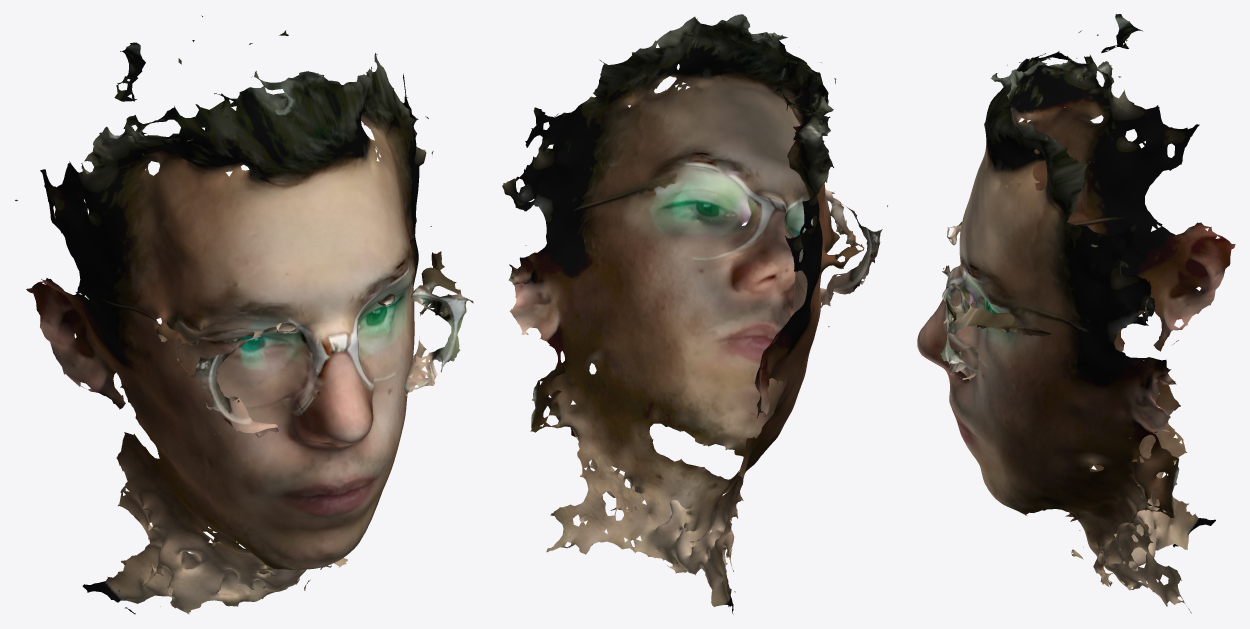
The model's file is ich.obj.
The picture shows the model from 3 angles, left to right: view 1: azimuth 30°, elevation 25°; view 2: azimuth 150°, elevation 25°; view 3: azimuth 270°, elevation 25°; orthographic projection. The views are drawn at different scales.
Bounding box in the file's own units: 0.8211 × 1.12 × 0.616.
